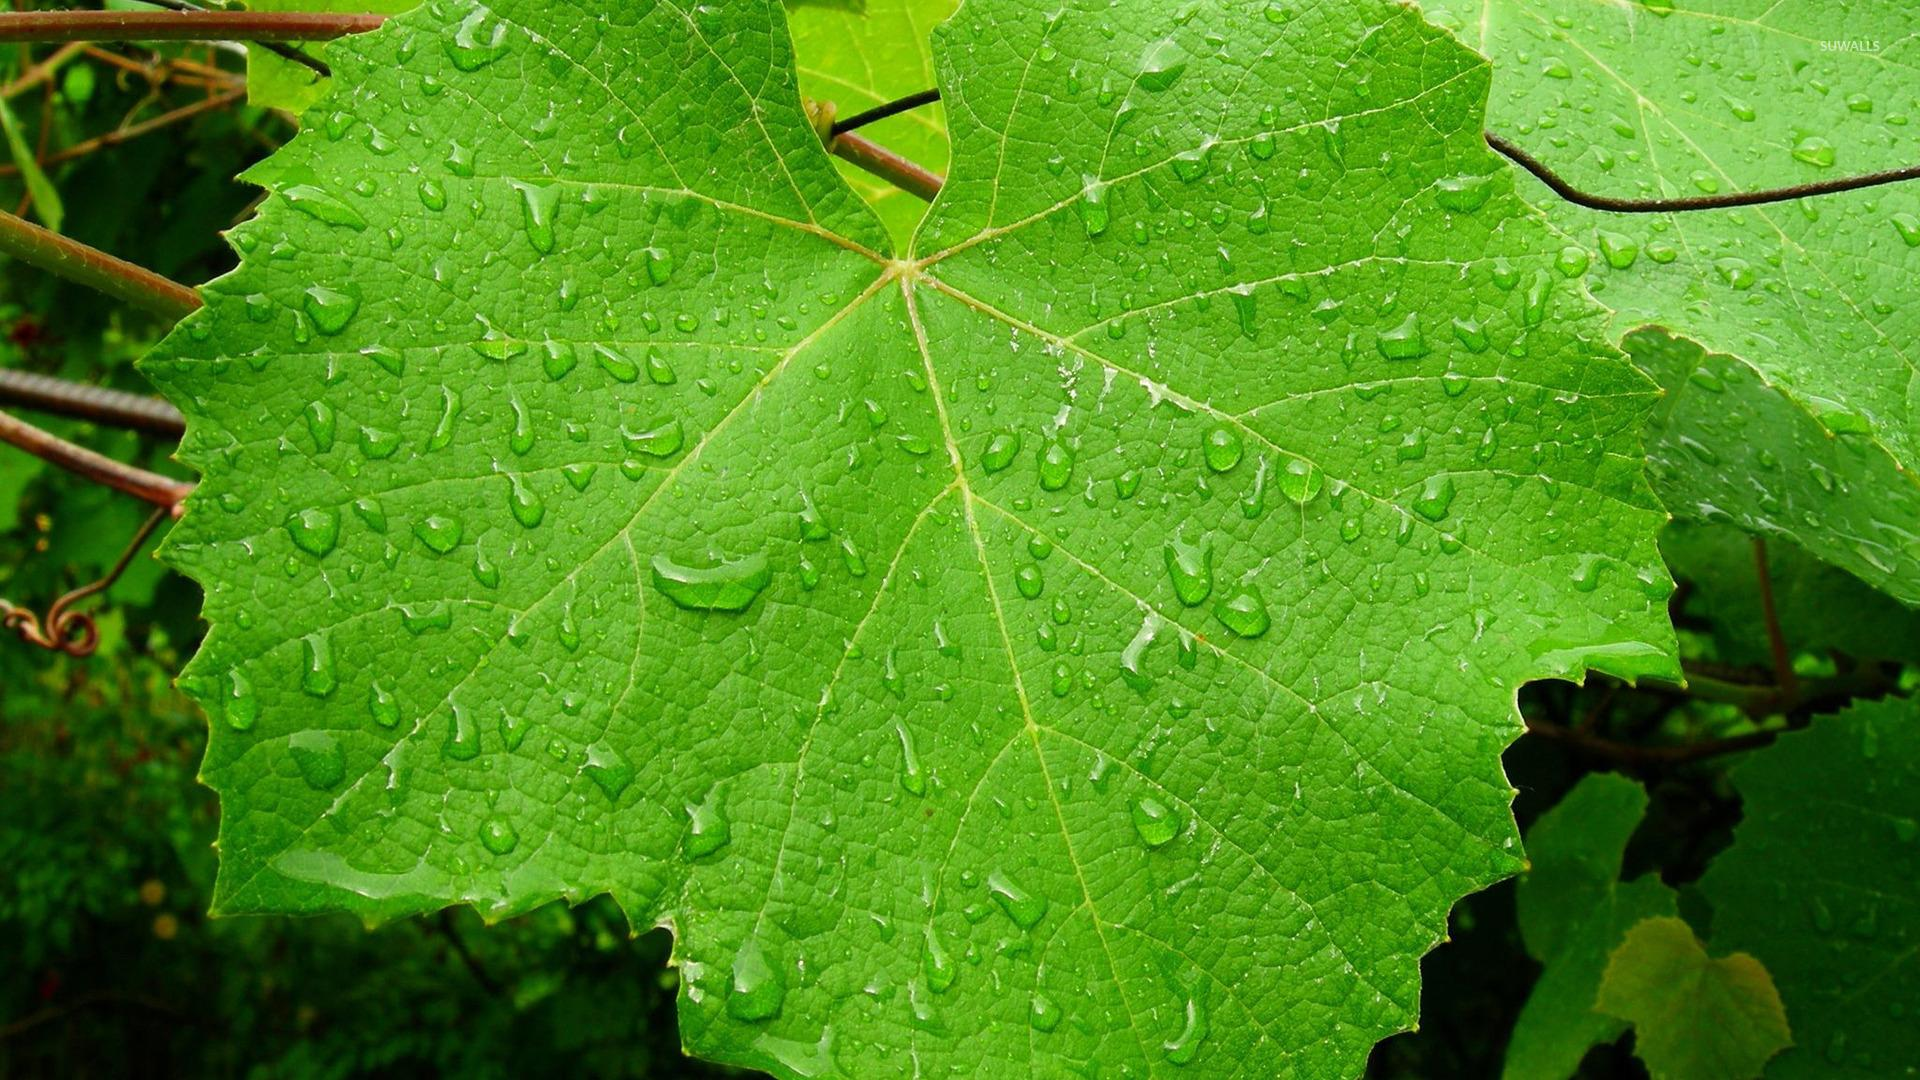grape leaf black rot: (170, 7, 1667, 1069)
